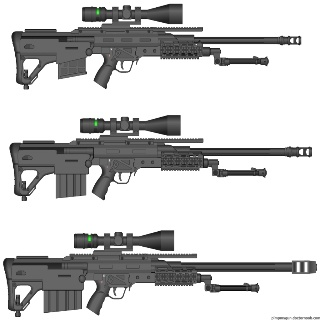rifle: (1, 228, 318, 320), (8, 111, 313, 206), (10, 1, 304, 92)
